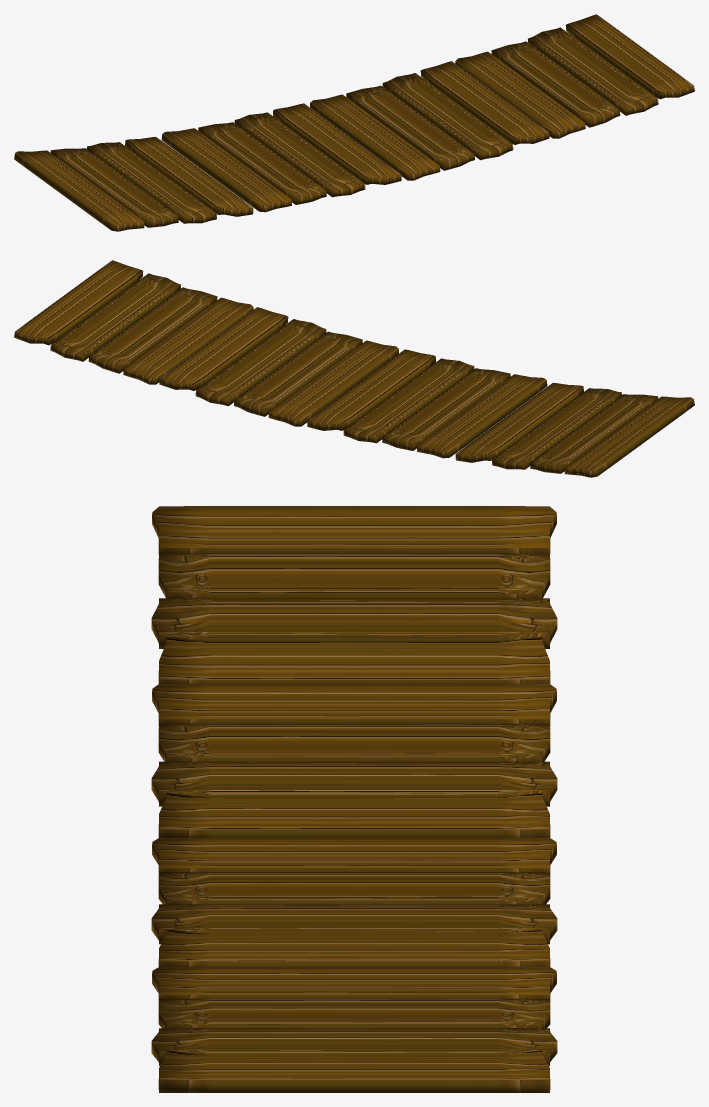
Rendered from RopeBridgeFloor.obj.
3 renders of one model, top to bottom at view 1: azimuth 30°, elevation 25°; view 2: azimuth 150°, elevation 25°; view 3: azimuth 270°, elevation 25°, orthographic. The views are drawn at different scales.
Visible parts, largest first — view 1: plankSet.008_Cube.019; view 2: plankSet.008_Cube.019; view 3: plankSet.008_Cube.019.
Boxes of the visible parts, x1,y1,x2,y2 form: plankSet.008_Cube.019: [14, 14, 694, 231]; plankSet.008_Cube.019: [14, 260, 694, 477]; plankSet.008_Cube.019: [151, 506, 557, 1092].
Bounding box in the file's own units: 6.25 × 0.2906 × 1.88.
